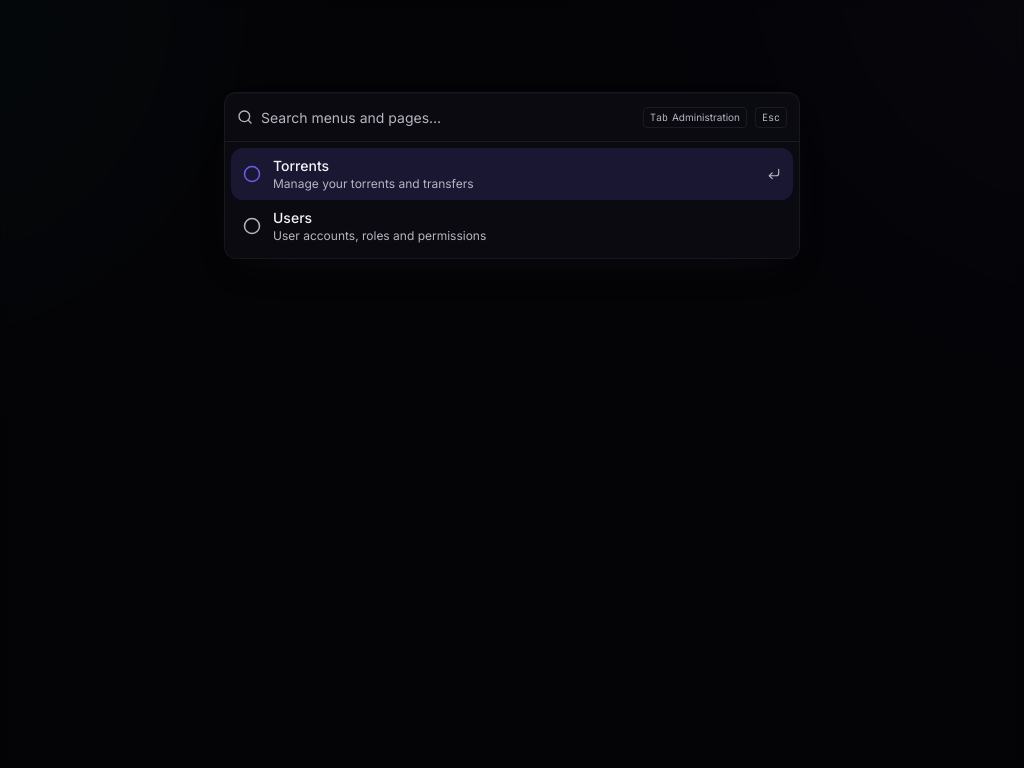
Test case: CommandPalette › scopes pages to the active workspace when Tab toggles scope
Before scoping, a broad query can surface pages from other workspaces.
In the field: {"x": 448, "y": 117} [261, 93, 635, 141], type "s"
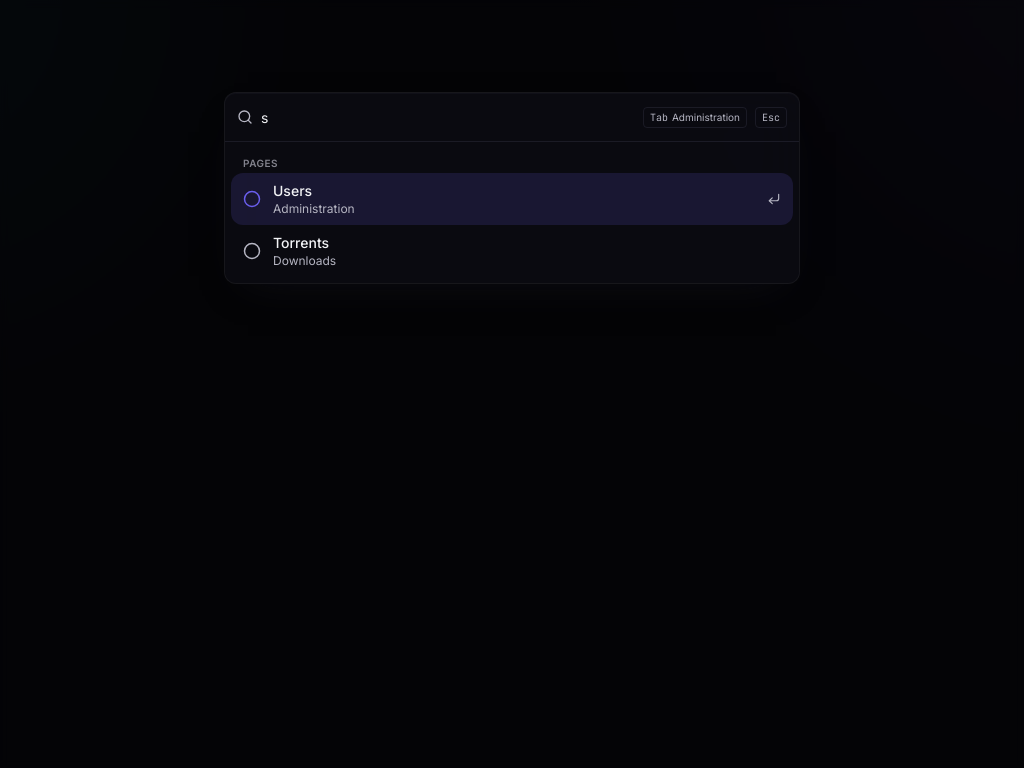
Result: the text "Torrents" is shown at [273, 234, 329, 251]
Tab scopes to Administration → Torrents (Downloads) drops out, Users stays.
Press Tab in the field, box [261, 93, 635, 141]
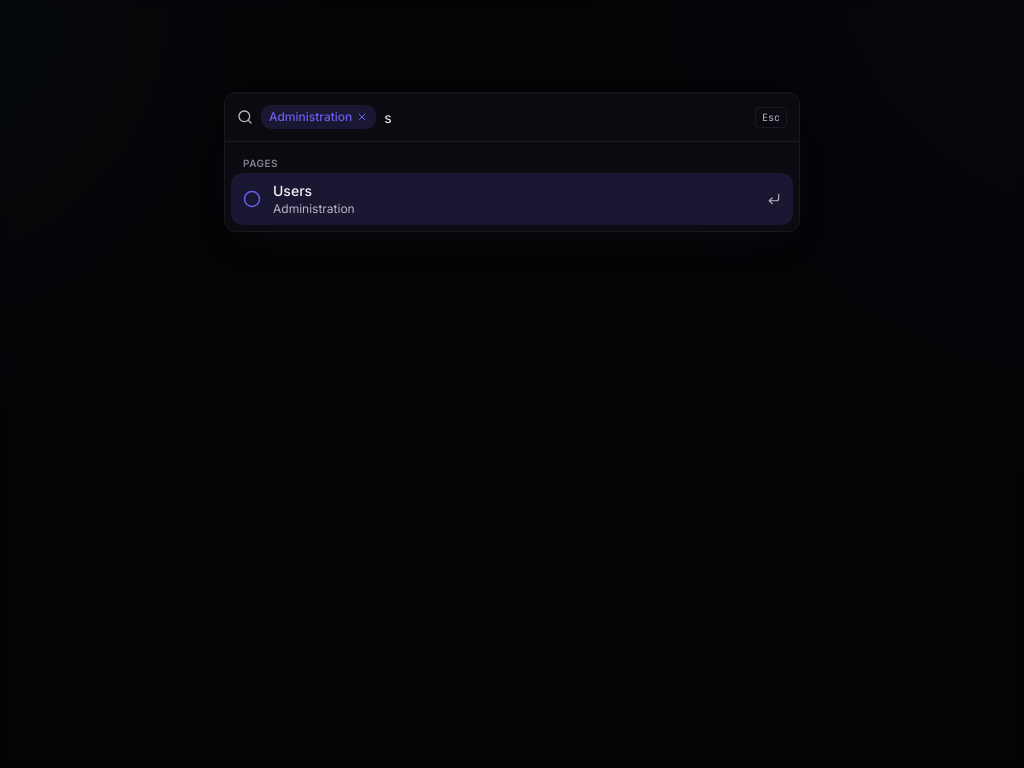
Expected: the text "Users" is shown, [273, 182, 312, 199]
Result: the button "Torrents" is gone
